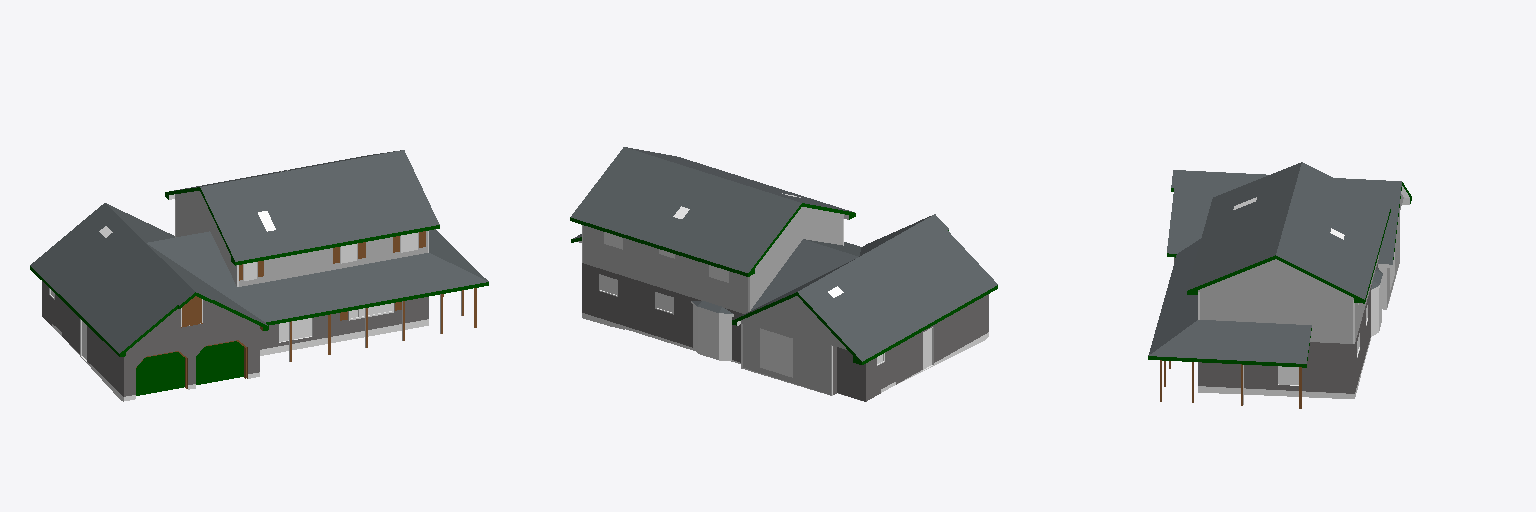
The model's file is 0e426ef3-aa21-4db1-aab2-cc9d9b46c67f.obj.
3 renders of one model, left to right at view 1: azimuth 30°, elevation 25°; view 2: azimuth 150°, elevation 25°; view 3: azimuth 270°, elevation 25°, orthographic.
Parts seen in each view (by area): view 1: Mesh67 Model, Mesh17 Group65_1_1 Model, Mesh15 Group63_1_1 Model; view 2: Mesh67 Model, Mesh19 Group69_1_1 Model; view 3: Mesh67 Model.
Boxes of the visible parts, x1=… form: Mesh67 Model: x1=30, y1=150, x2=488, y2=401; Mesh17 Group65_1_1 Model: x1=136, y1=352, x2=184, y2=395; Mesh15 Group63_1_1 Model: x1=196, y1=341, x2=243, y2=384; Mesh67 Model: x1=570, y1=147, x2=997, y2=401; Mesh19 Group69_1_1 Model: x1=761, y1=330, x2=791, y2=375; Mesh67 Model: x1=1148, y1=162, x2=1411, y2=408.
Bounding box in the file's own units: 803 × 301 × 499.